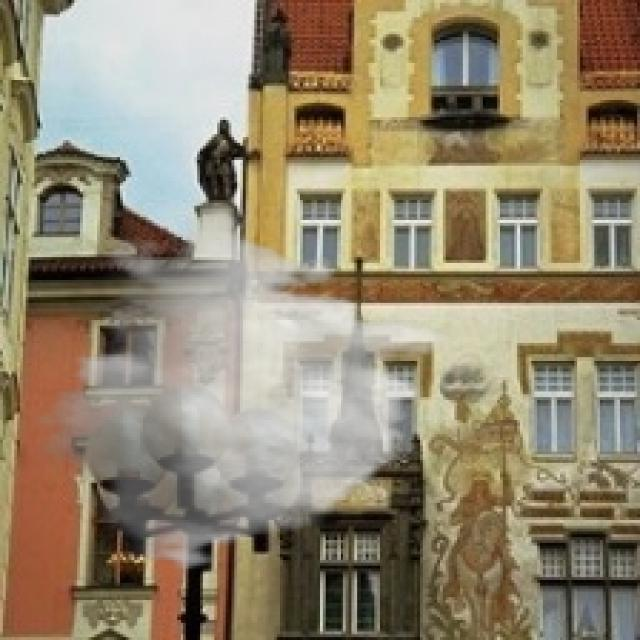smoke: (29, 200, 454, 574)
